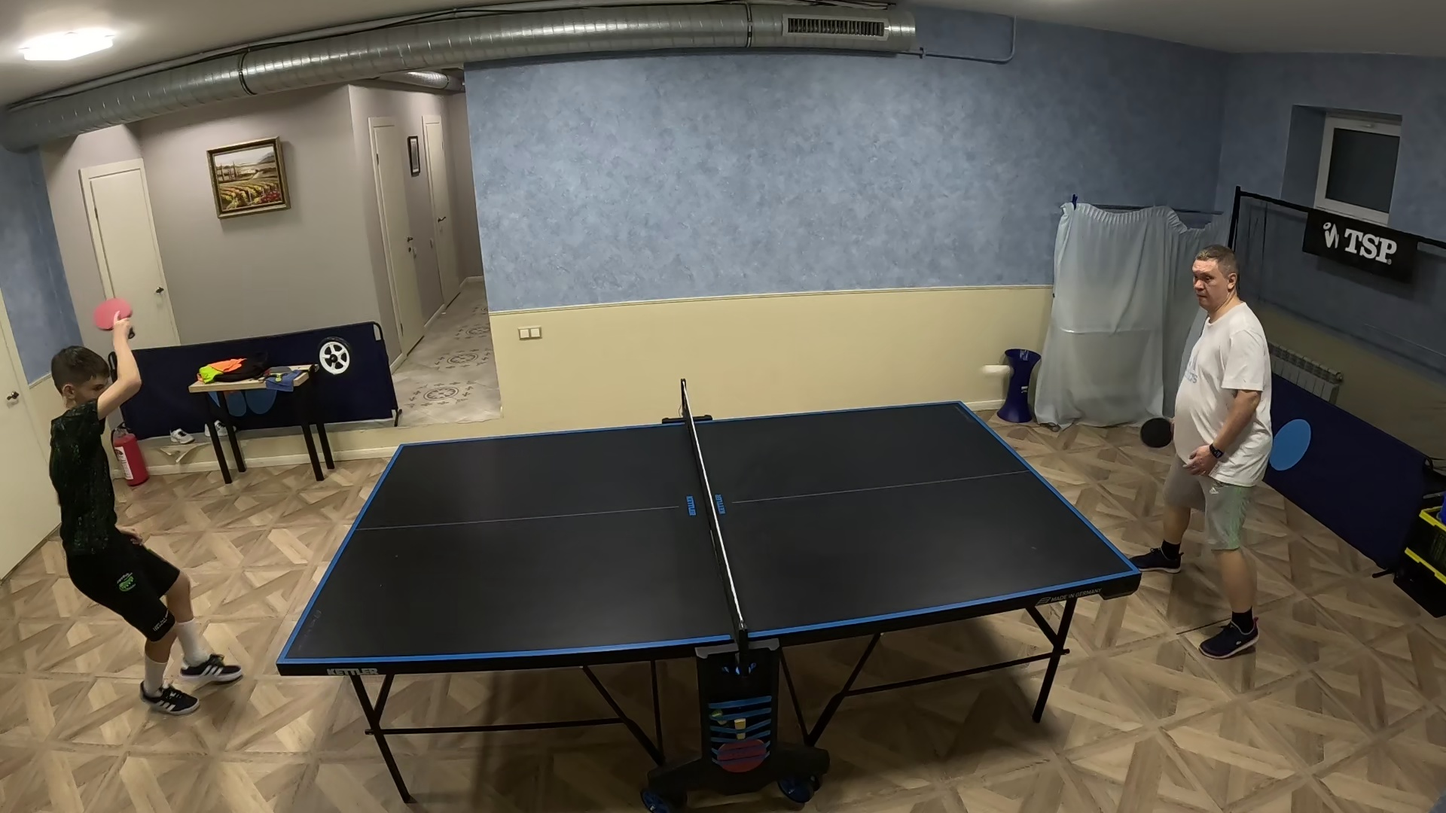Ball: (981, 365, 1011, 376)
